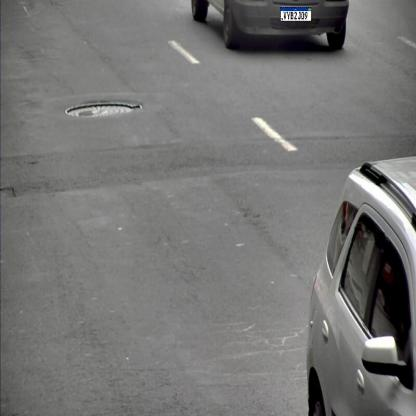PlacaM: (280, 7, 312, 21)
